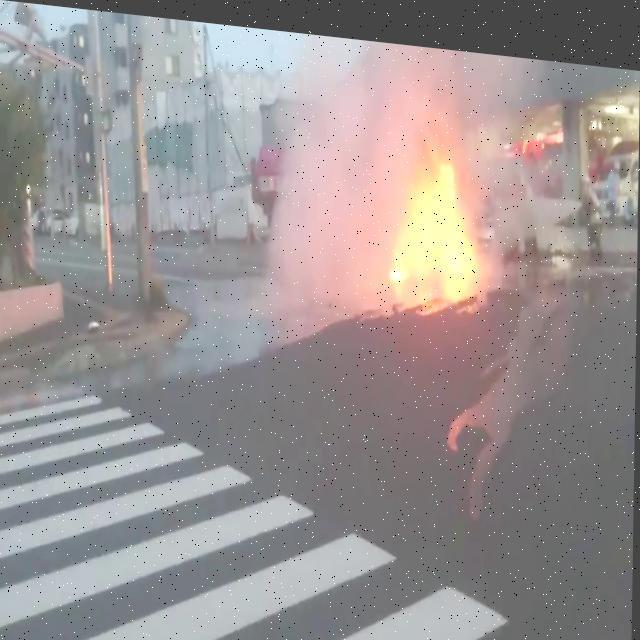Fire: (390, 139, 482, 296)
